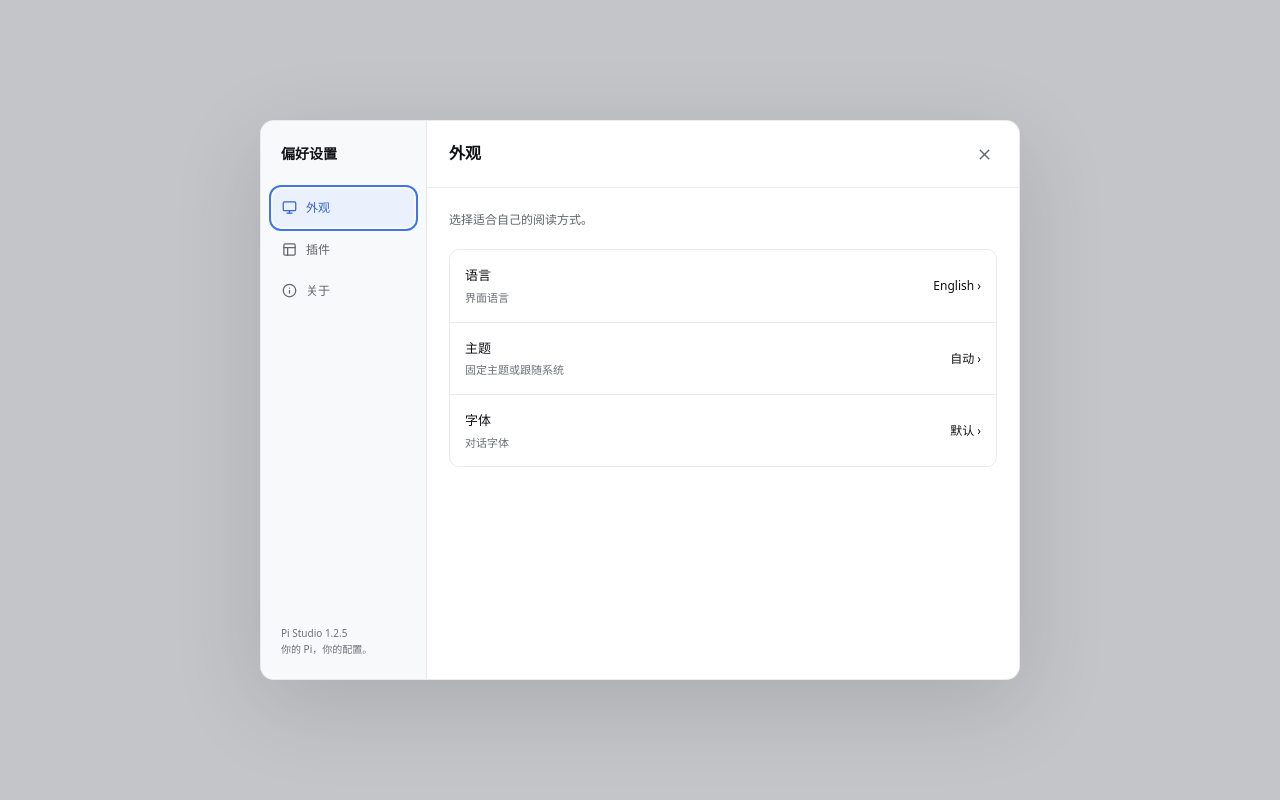
Test: keeps both font sample lines in the zh-CN interface
The image size is (1280, 800).
Click the button "字体 对话字体 默认 ›": (487, 442) x1=450 y1=394 x2=996 y2=466
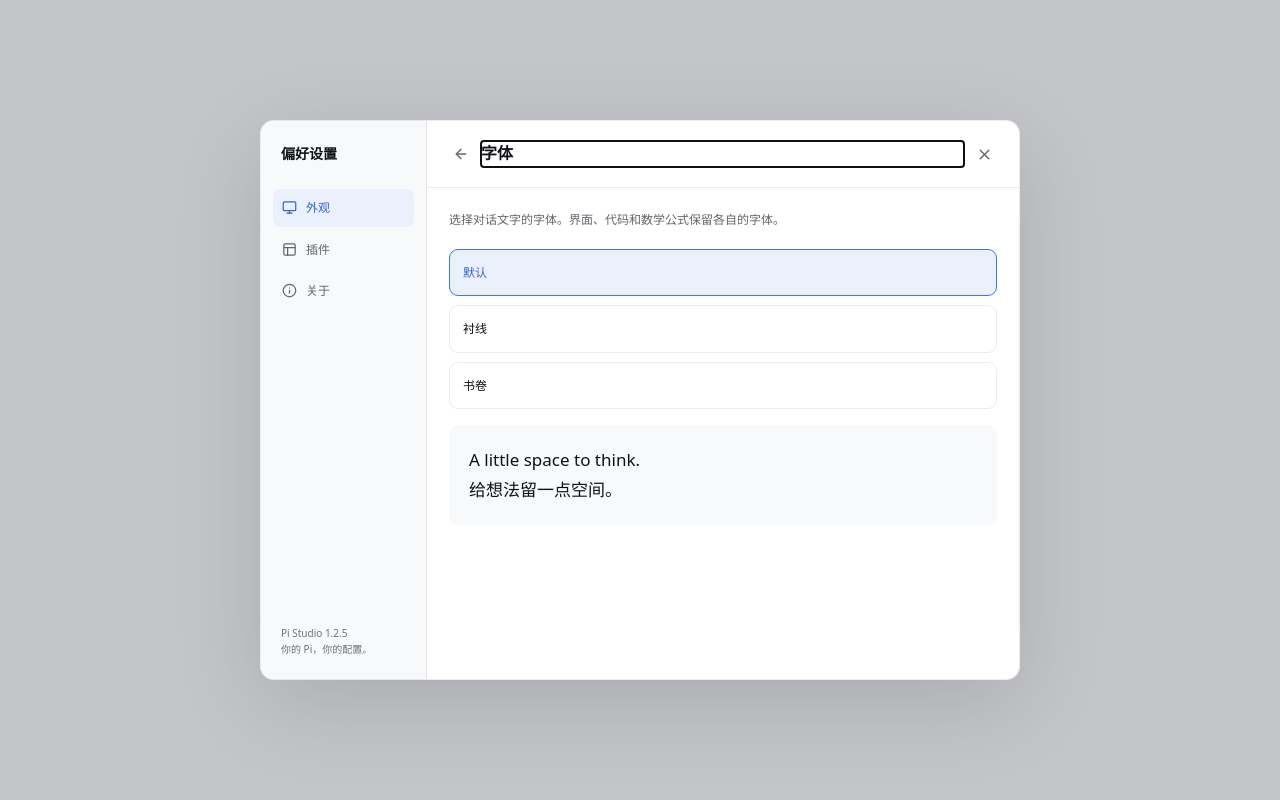
Check: the element named "字体预览" reads "A little space to think.给想法留一点空间。", box x1=449 y1=425 x2=997 y2=526
